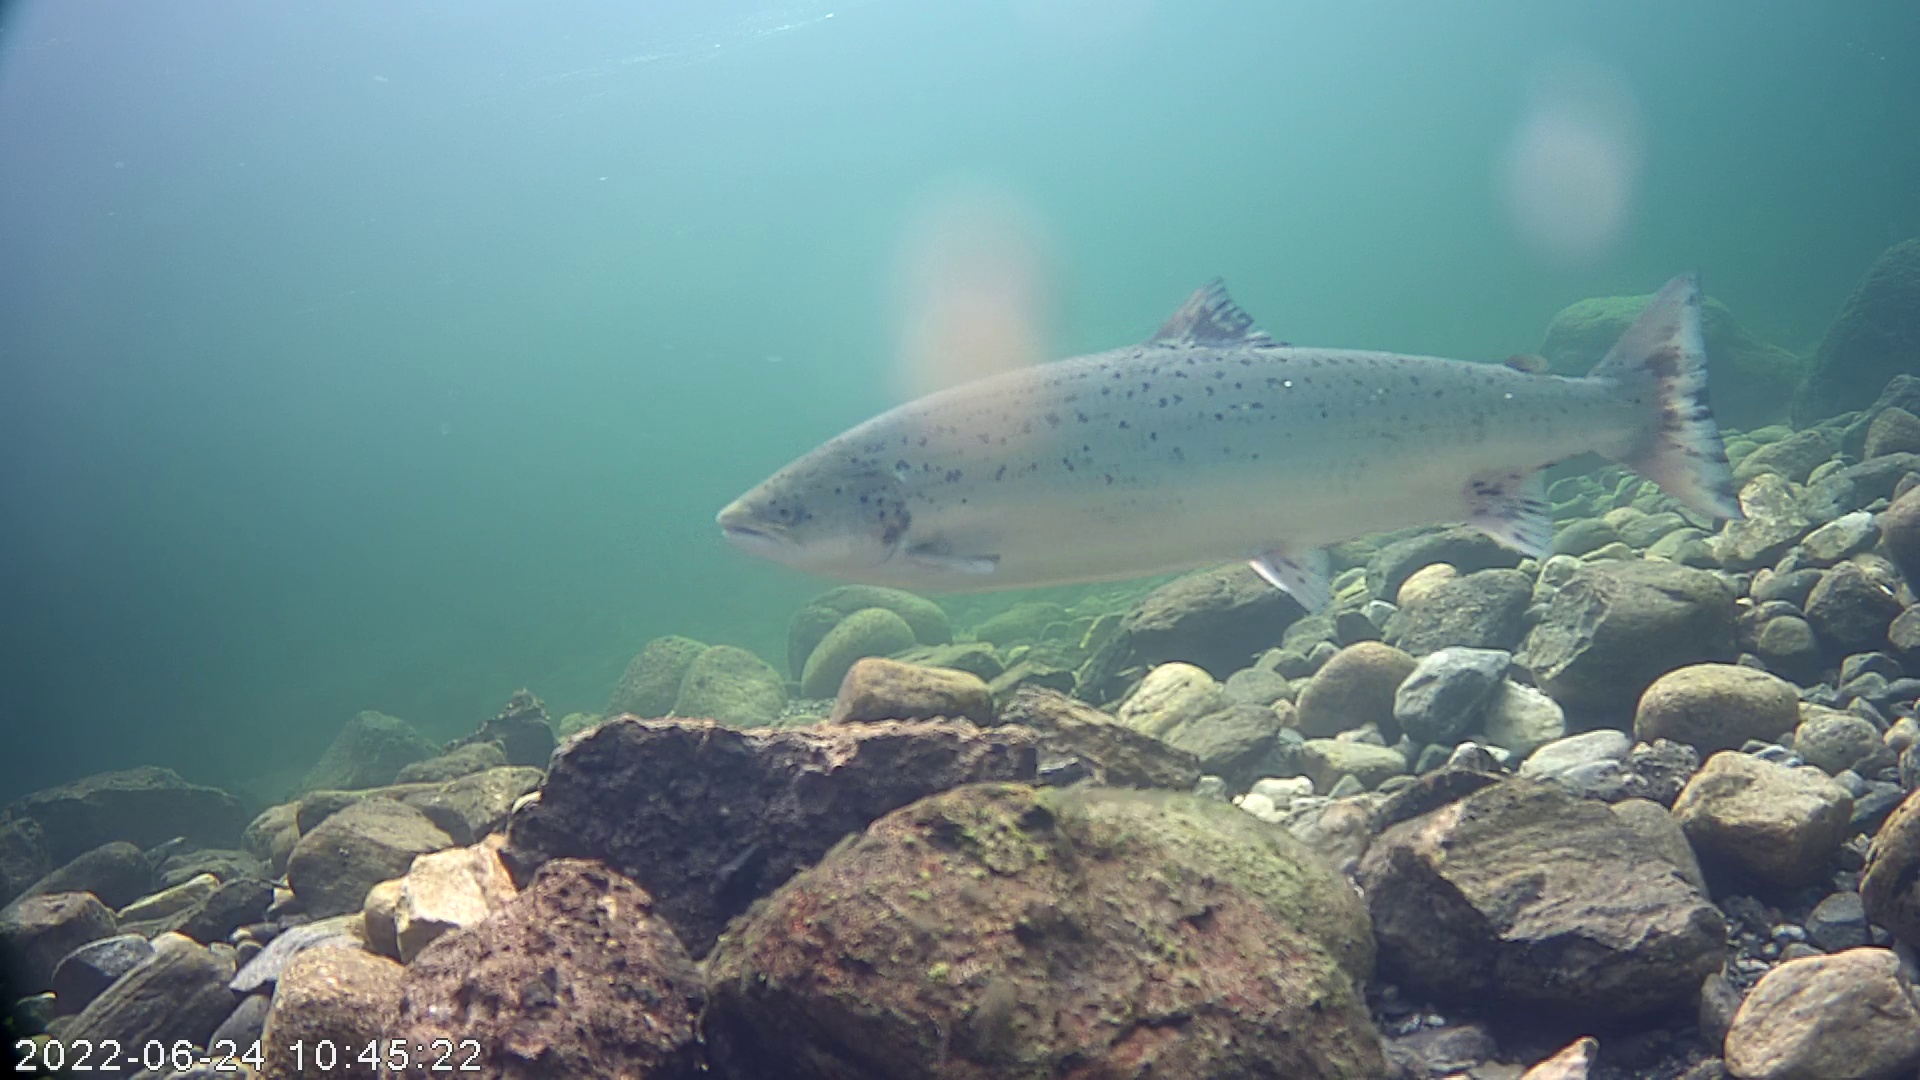salmon: (715, 261, 1750, 620)
